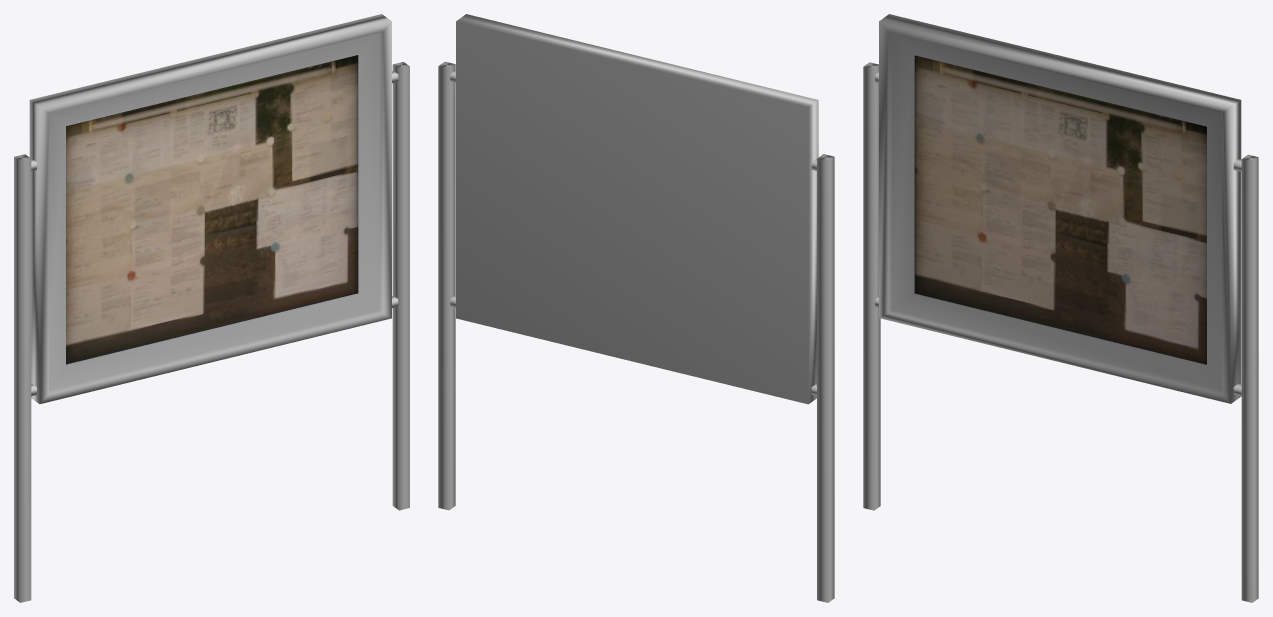
File: bulletinboard.fbx
3 views of the same model, side by side, from view 1: azimuth 30°, elevation 25°; view 2: azimuth 150°, elevation 25°; view 3: azimuth 330°, elevation 25° (orthographic).
Parts seen in each view (by area): view 1: Mesh; view 2: Mesh; view 3: Mesh.
Boxes of the visible parts, bbox=[...] form: Mesh: bbox=[14, 14, 409, 602]; Mesh: bbox=[438, 14, 834, 602]; Mesh: bbox=[863, 14, 1258, 602].
Size of the model in its own units: 156 by 189 by 7.06.
